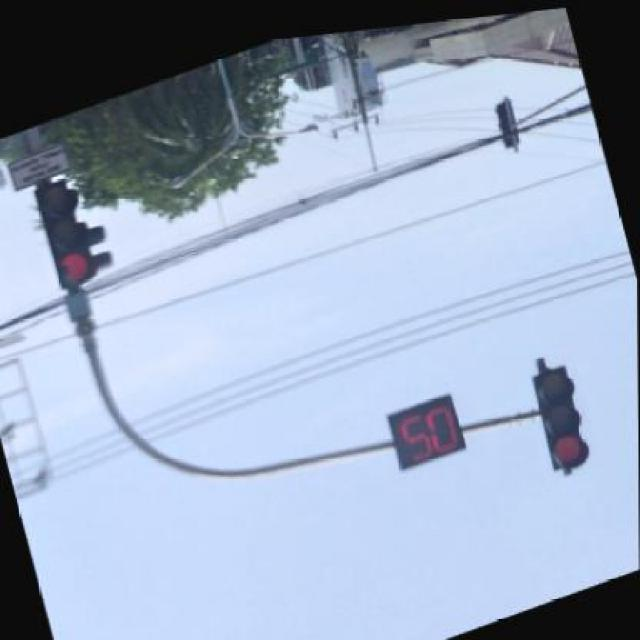red_light: (33, 178, 109, 291), (532, 357, 587, 471)
